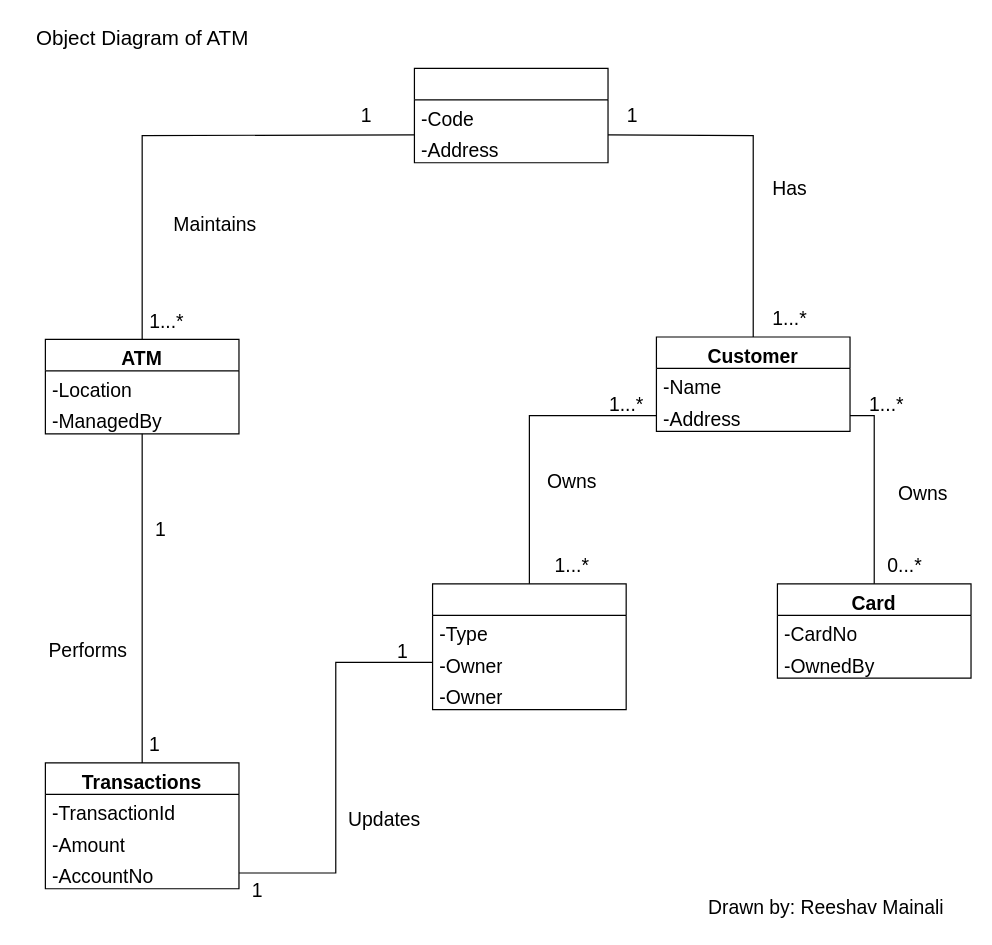
The diagram is 992 pixels wide and 945 high, and some of its shapes have lost their labels. Here are the shapes that lost their labels. From the top down, the box of each, then its label:
(413, 67, 608, 163): Bank
(431, 583, 626, 710): Account
